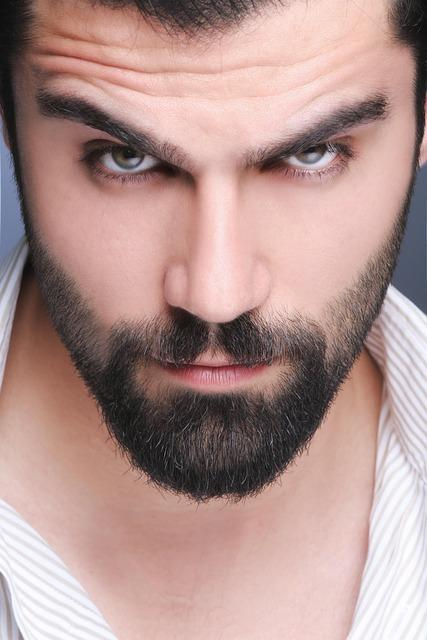Non_Gorille: (8, 0, 427, 627)
